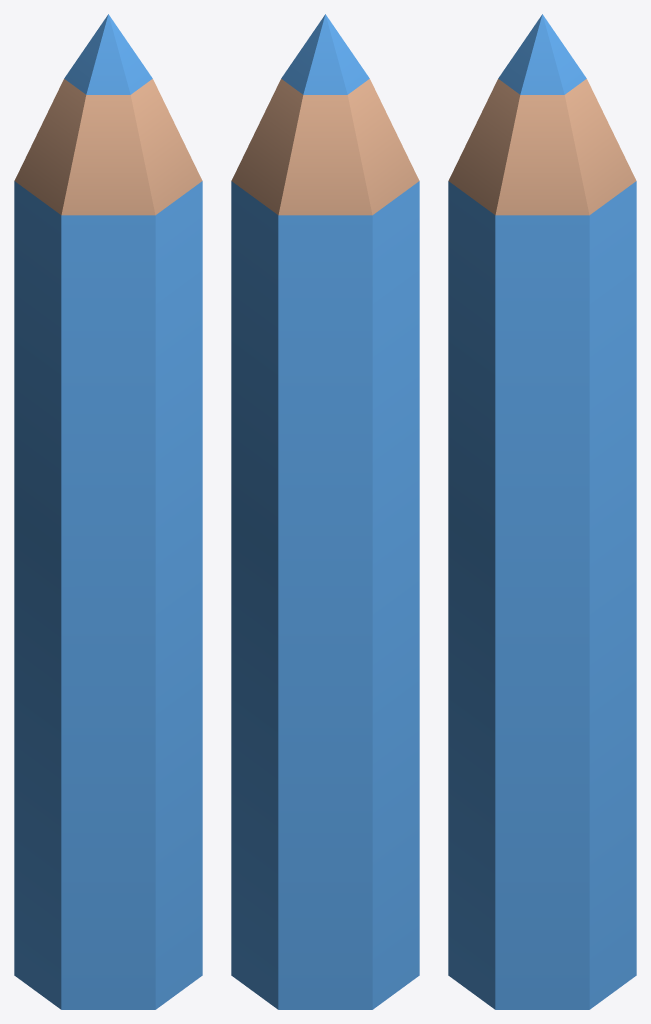
The model's file is pencil_blue.gltf.glb.
The picture shows the model from 3 angles, left to right: view 1: azimuth 30°, elevation 25°; view 2: azimuth 150°, elevation 25°; view 3: azimuth 270°, elevation 25°; orthographic projection.
Parts seen in each view (by area): view 1: pencil_blue; view 2: pencil_blue; view 3: pencil_blue.
Boxes of the visible parts, x1=… form: pencil_blue: x1=14, y1=14, x2=202, y2=1009; pencil_blue: x1=231, y1=14, x2=419, y2=1009; pencil_blue: x1=448, y1=14, x2=636, y2=1009.
Bounding box in the file's own units: 0.0667 × 0.4398 × 0.077.
